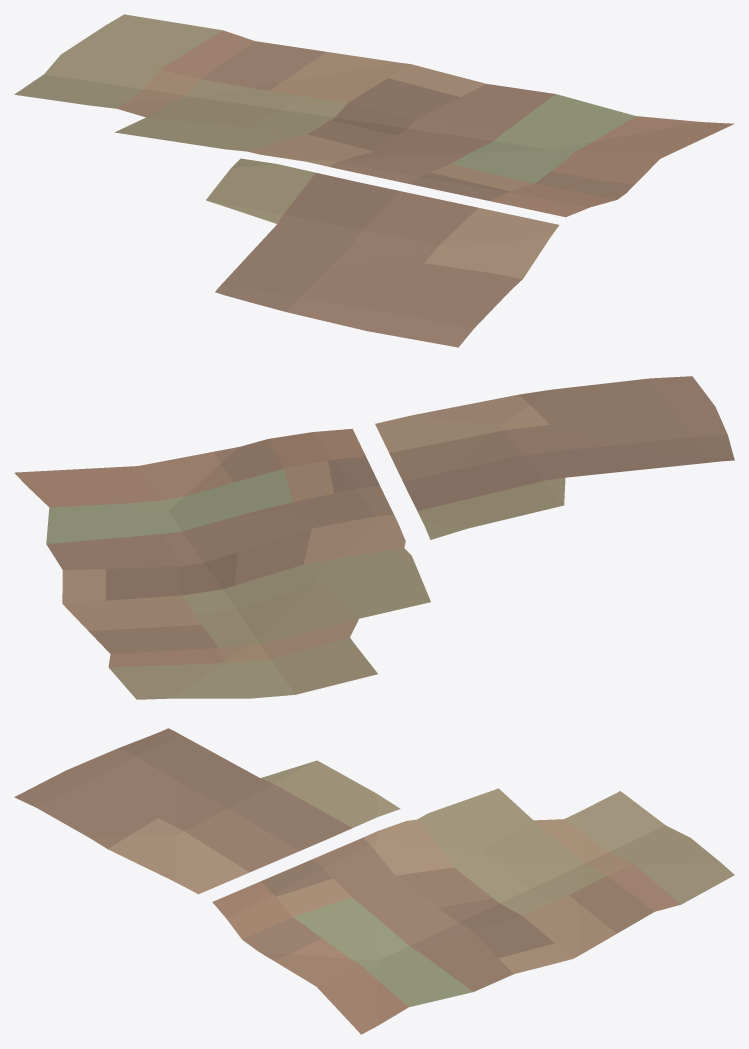
Rendered from farm_-2_6_soil.glb.
3 views of the same model, one above another, from view 1: azimuth 30°, elevation 25°; view 2: azimuth 150°, elevation 25°; view 3: azimuth 270°, elevation 25° (orthographic). The views are drawn at different scales.
Parts seen in each view (by area): view 1: geometry_0; view 2: geometry_0; view 3: geometry_0.
Boxes of the visible parts, x1,y1,x2,y2 form: geometry_0: [14, 14, 734, 347]; geometry_0: [14, 376, 734, 699]; geometry_0: [14, 728, 734, 1034].
Bounding box in the file's own units: 230 × 27.39 × 286.
